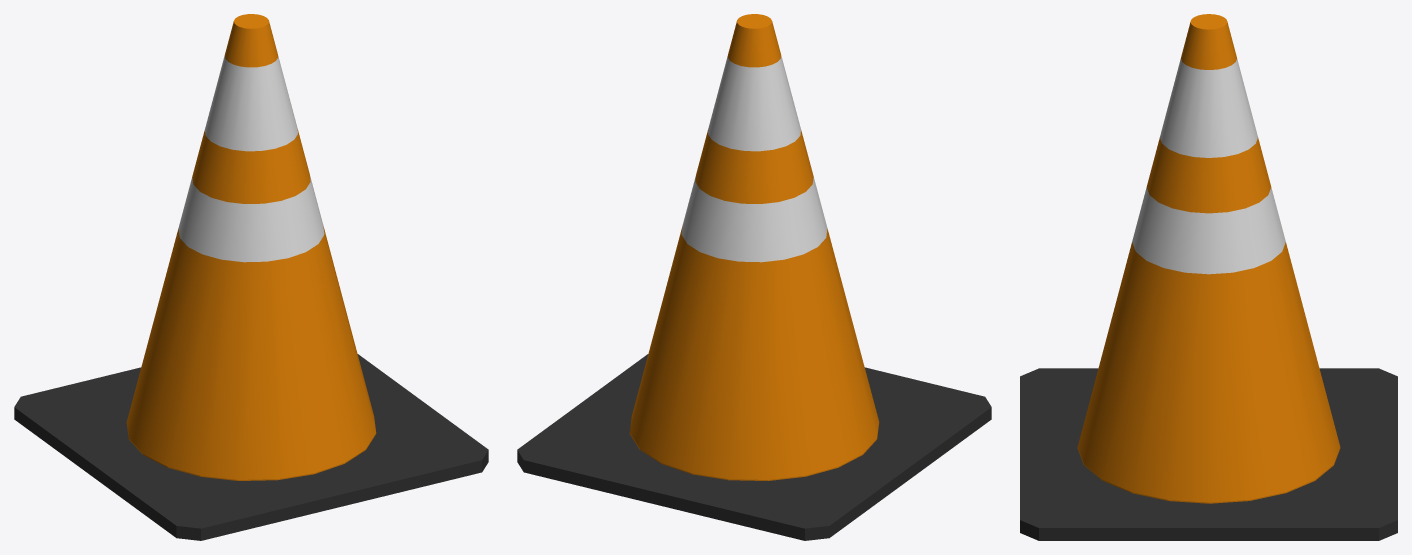
Rendered from trafficCone.fbx.
The picture shows the model from 3 angles, left to right: view 1: azimuth 30°, elevation 25°; view 2: azimuth 150°, elevation 25°; view 3: azimuth 270°, elevation 25°; orthographic projection. The views are drawn at different scales.
Visible parts, largest first — view 1: pCylinder1, pCube1; view 2: pCylinder1, pCube1; view 3: pCylinder1, pCube1.
Boxes of the visible parts, x1,y1,x2,y2 form: pCylinder1: (126,14,376,480); pCube1: (14,354,488,540); pCylinder1: (629,14,879,480); pCube1: (517,354,991,540); pCylinder1: (1077,14,1340,503); pCube1: (1020,368,1397,540).
Bounding box in the file's own units: 2.88 × 3.69 × 2.88.
